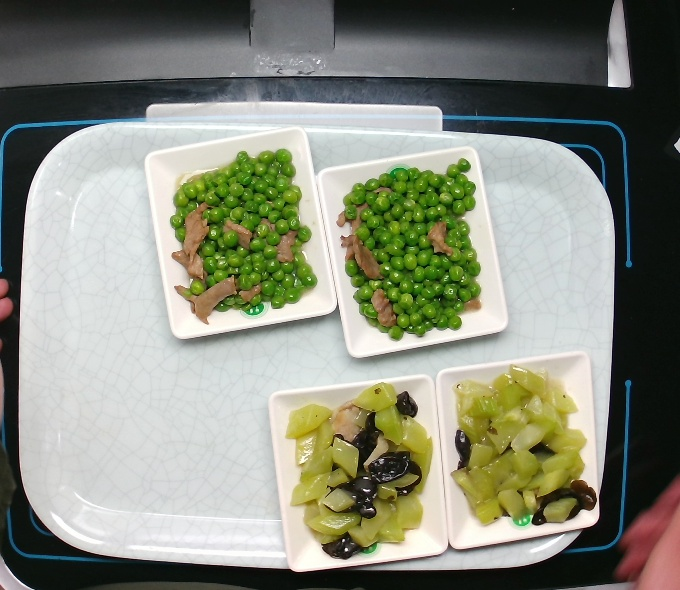wcq-CanDouRouSi: (166, 130, 324, 342), (336, 157, 503, 351)
wcq-WoSunKuai: (437, 351, 598, 541), (290, 379, 442, 566)
